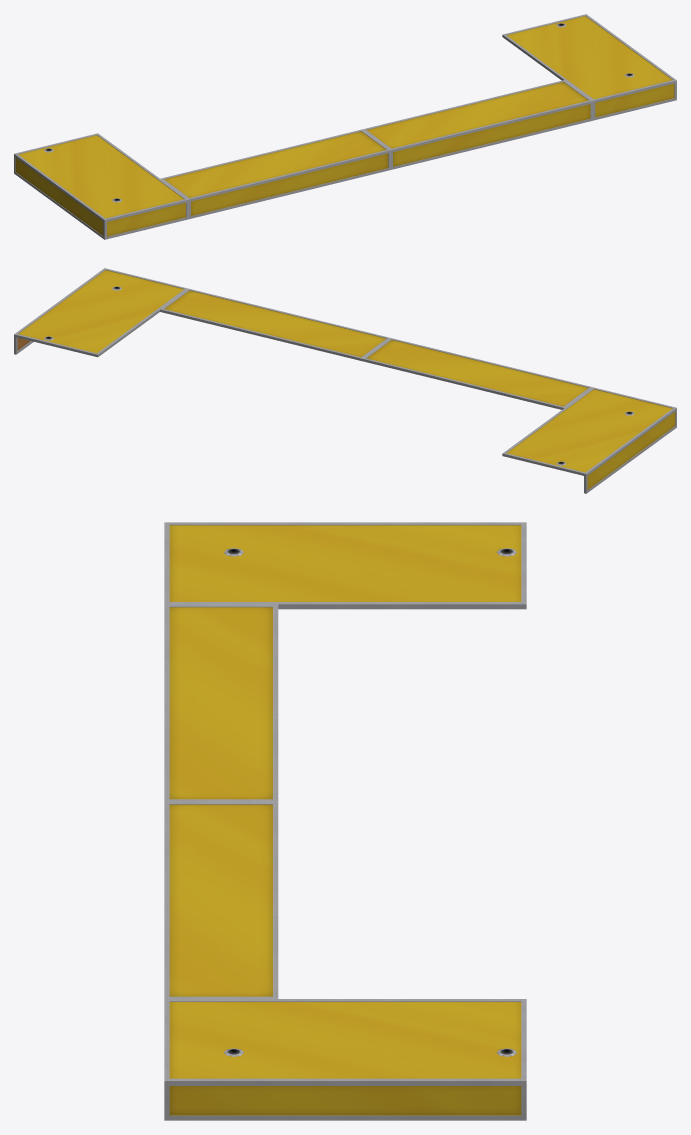
File: jsf_4P_s04_c03_t03_DX.fbx
The picture shows the model from 3 angles, top to bottom: view 1: azimuth 30°, elevation 25°; view 2: azimuth 150°, elevation 25°; view 3: azimuth 270°, elevation 25°; orthographic projection. The views are drawn at different scales.
Visible parts, largest first — view 1: jsf_4P_s04_c03_t03_DX; view 2: jsf_4P_s04_c03_t03_DX; view 3: jsf_4P_s04_c03_t03_DX.
Boxes of the visible parts, x1,y1,x2,y2 form: jsf_4P_s04_c03_t03_DX: (14, 14, 676, 239); jsf_4P_s04_c03_t03_DX: (14, 268, 676, 493); jsf_4P_s04_c03_t03_DX: (164, 522, 526, 1120).
Bounding box in the file's own units: 378 × 12.99 × 104.
